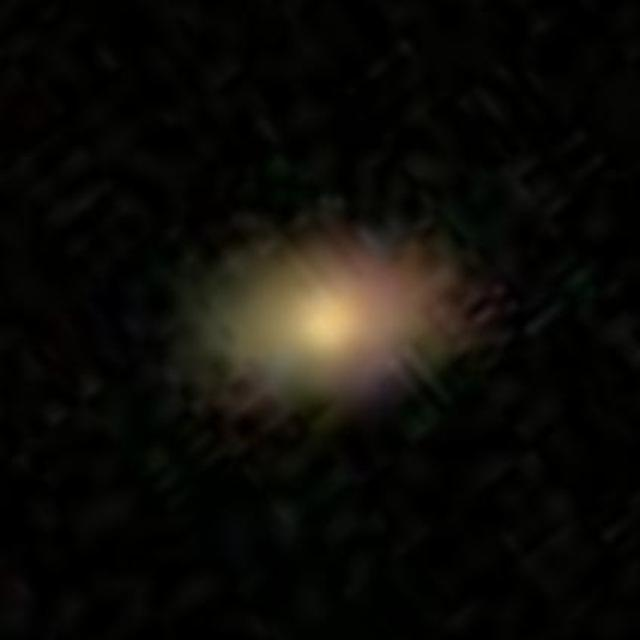galaxy: (146, 191, 531, 432)
